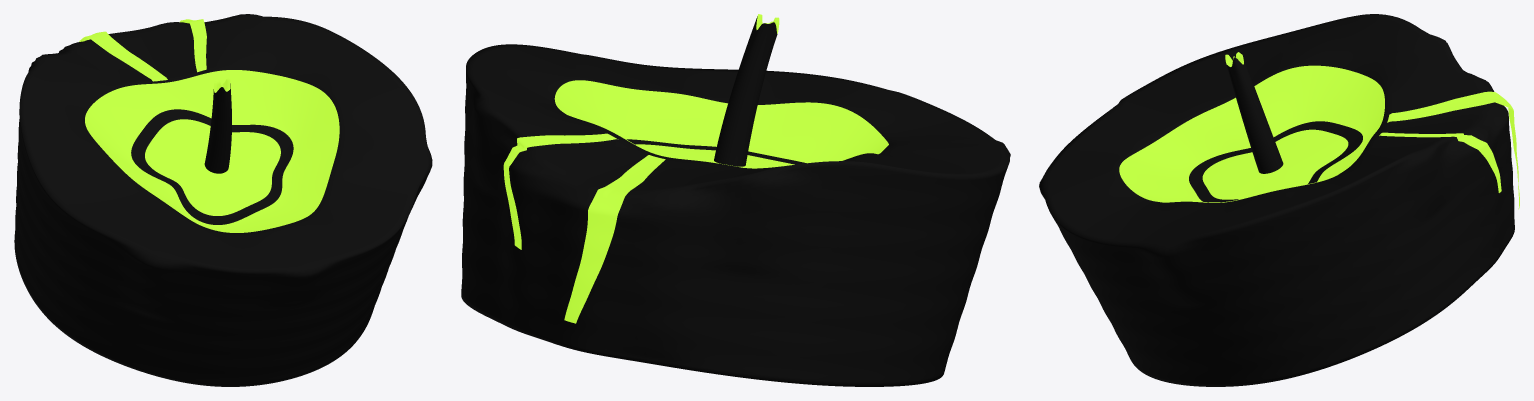
The picture shows the model from 3 angles, left to right: view 1: azimuth 30°, elevation 25°; view 2: azimuth 150°, elevation 25°; view 3: azimuth 270°, elevation 25°; orthographic projection. The views are drawn at different scales.
Parts seen in each view (by area): view 1: rousoku, ido, tamari, shin_soto, tare; view 2: rousoku, ido, tare, shin_soto, tamari; view 3: rousoku, ido, tamari, shin_soto, tare.
Boxes of the visible parts, x1,y1,x2,y2 form: rousoku: (14, 14, 432, 386); ido: (85, 70, 339, 232); tamari: (145, 119, 280, 215); shin_soto: (204, 83, 231, 173); tare: (79, 19, 206, 81); rousoku: (461, 44, 1010, 386); ido: (554, 80, 888, 167); tare: (503, 133, 665, 323); shin_soto: (714, 16, 777, 166); tamari: (635, 144, 794, 168); rousoku: (1039, 14, 1514, 386); ido: (1119, 65, 1384, 202); tamari: (1202, 129, 1348, 199); shin_soto: (1226, 56, 1283, 173); tare: (1379, 91, 1519, 209).
Bounding box in the file's own units: 3.25 × 2.27 × 3.48.
